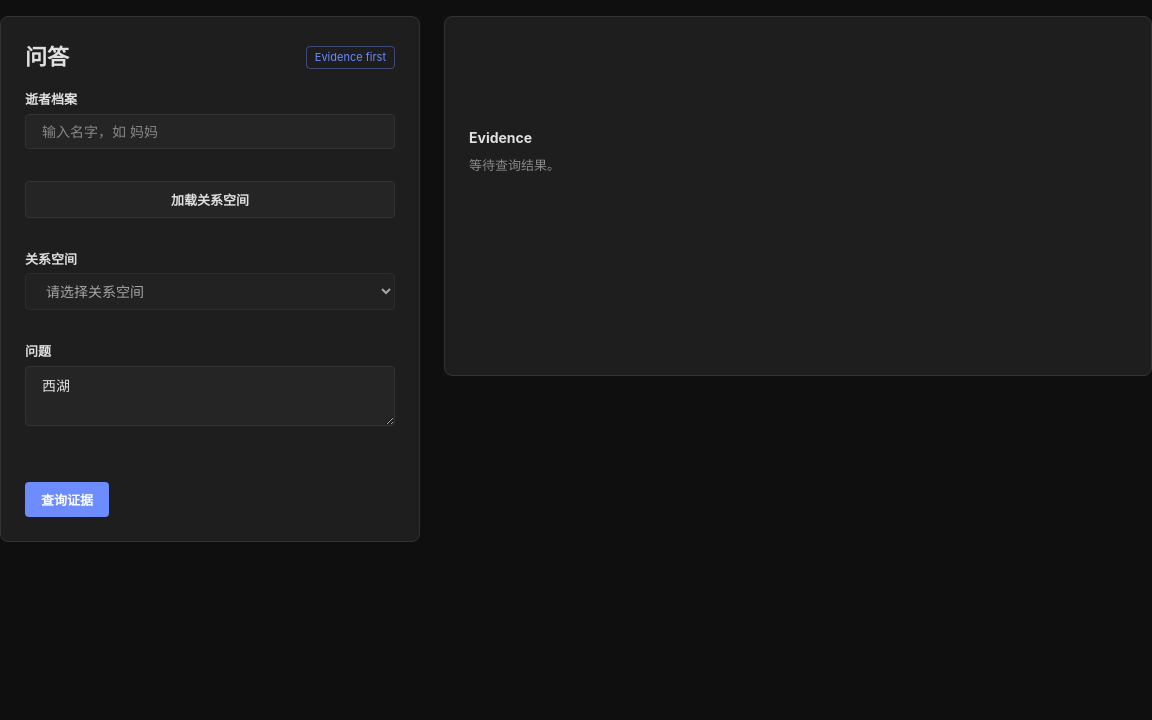
Test: Query page › keeps unanswered queries evidence-bounded
The width and height of the screenshot is (1152, 720).
In the field labelled "逝者档案": (210, 131) [25,114,395,148], type "妈妈"
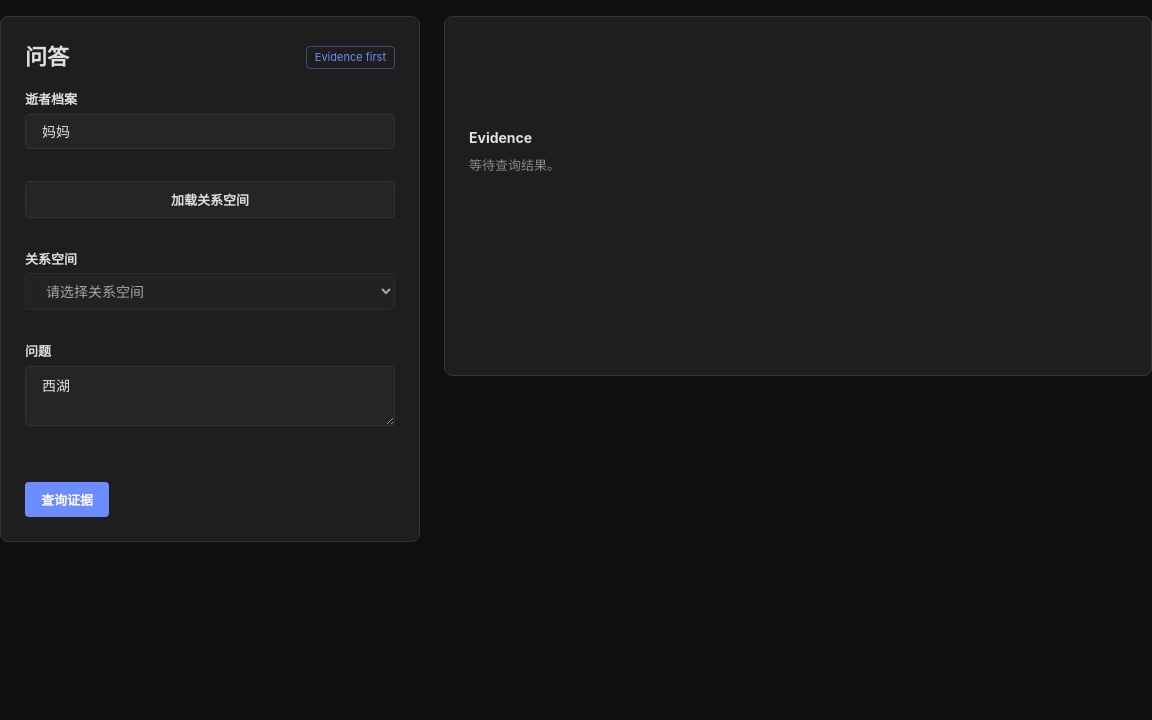
Click the button "加载关系空间": (210, 199) [25,180,395,218]
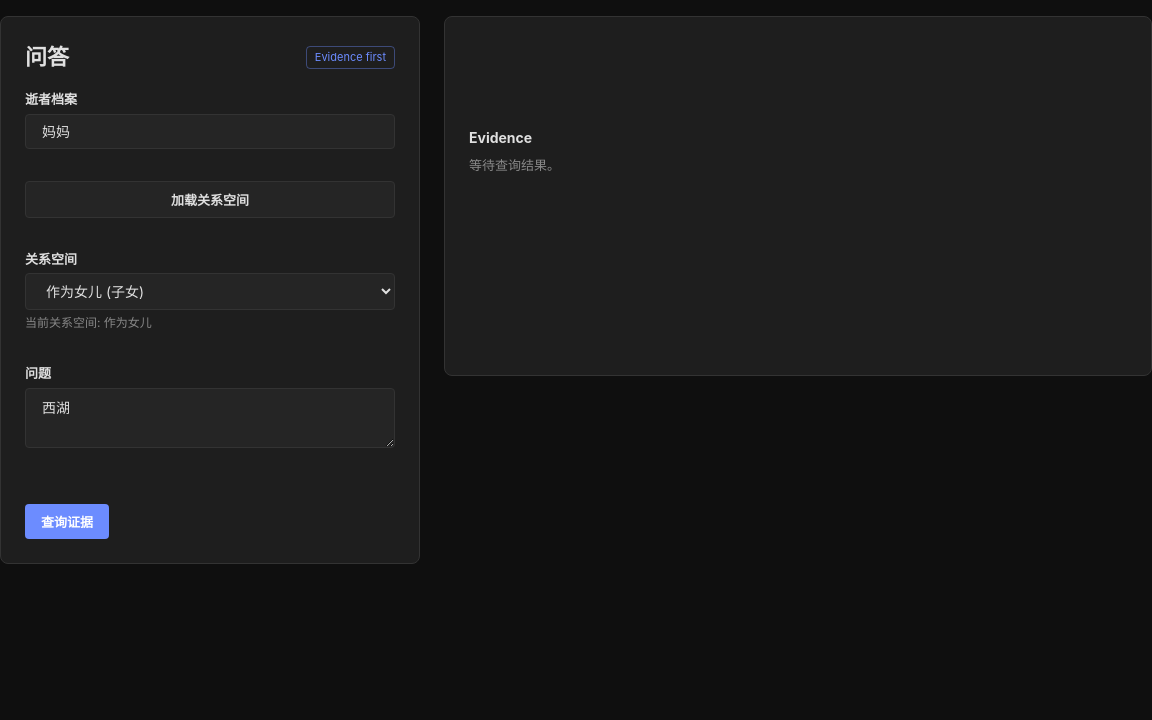
Select "作为女儿 (子女)" in the dropdown labelled "关系空间": (210, 292) [25,273,395,310]
Replace the text in the text box labelled "问题" with "没有证据的问题": (210, 418) [25,388,395,448]
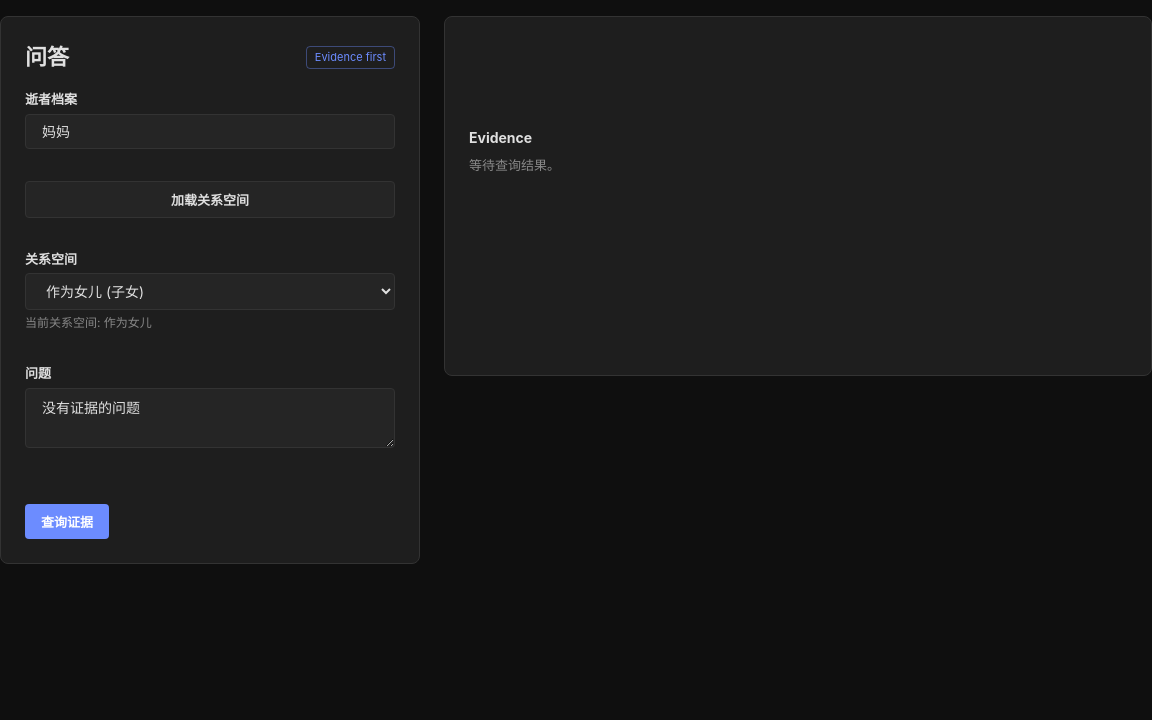
Click the button "查询证据": (67, 521) [25,504,109,538]
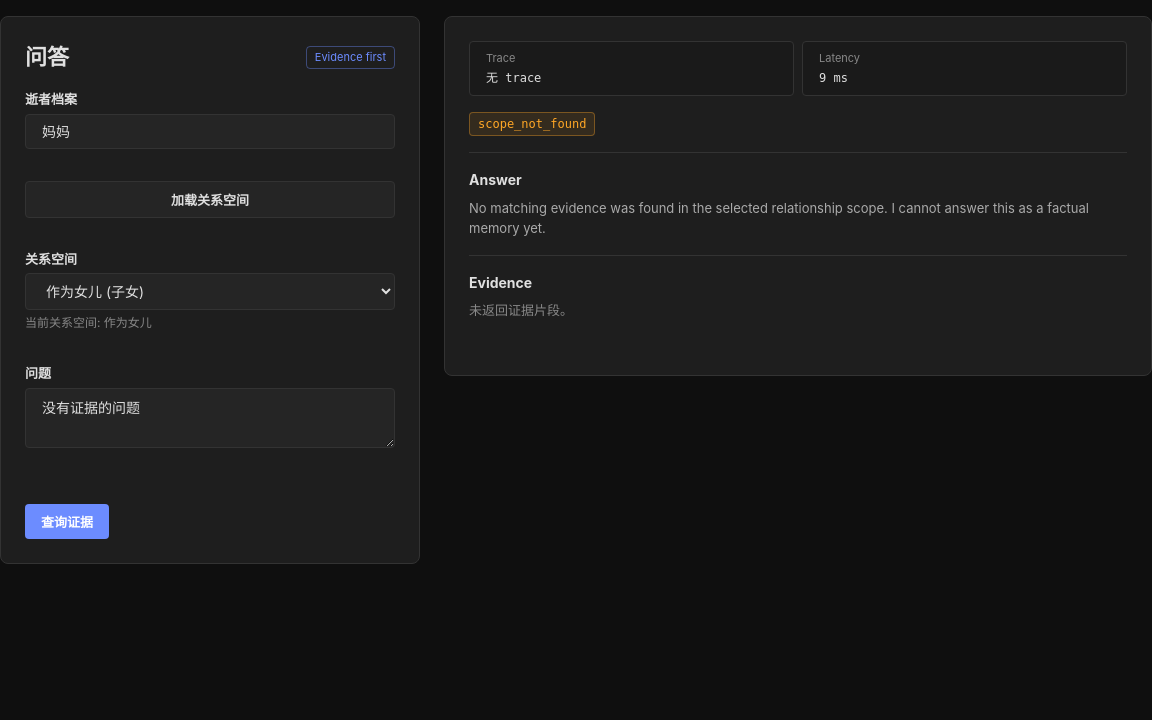
Now the text "无 trace" is shown, box [486,70,541,84]
Now the text "No matching evidence was found" is shown, box [469,200,1093,236]
Now the text "scope_not_found" is shown, box [469,112,595,136]
